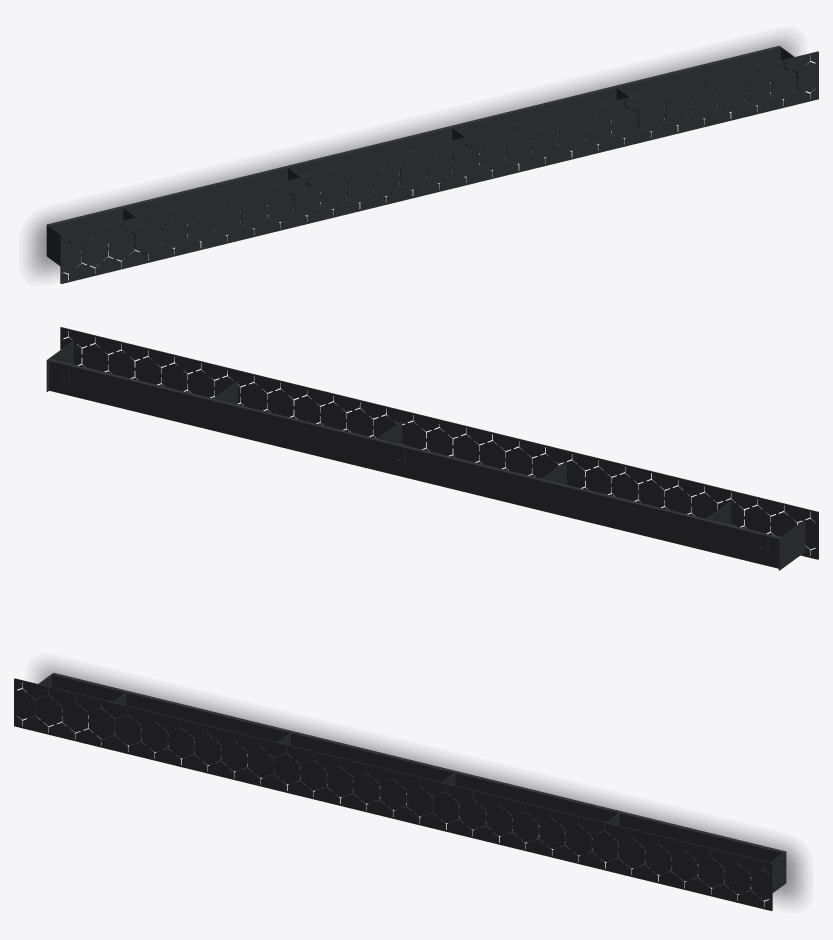
File: bee-patron.8501e80aae.ar.glb
3 renders of one model, top to bottom at view 1: azimuth 30°, elevation 25°; view 2: azimuth 150°, elevation 25°; view 3: azimuth 330°, elevation 25°, orthographic.
Visible parts, largest first — view 1: NAUO1, object 2; view 2: NAUO1; view 3: NAUO1, object 2.
Part boxes in pixels (left/top/right/bottom): NAUO1: left=46, top=45, right=818, bottom=283; object 2: left=29, top=38, right=797, bottom=274; NAUO1: left=46, top=327, right=818, bottom=570; NAUO1: left=14, top=672, right=786, bottom=910; object 2: left=35, top=665, right=803, bottom=901.
Size of the model in its own units: 1.58 by 0.17 by 0.092.
Materials: 2 (1 with a texture image).
